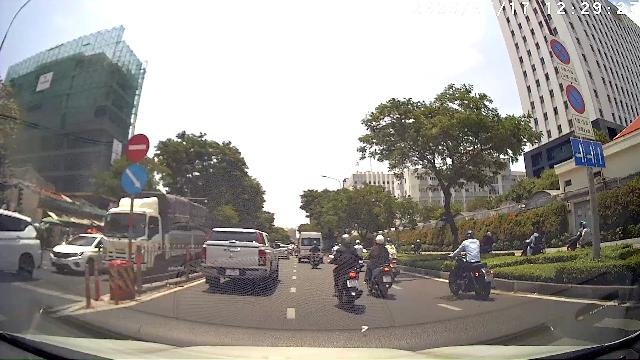102-cam-di-nguoc-chieu: (125, 134, 149, 161)
130-cam-dung-va-do-xe: (550, 38, 571, 64)
131a-cam-do-xe: (565, 83, 585, 114)
302a-huong-phai-di-vong-chuong-ngai-vat-1: (121, 163, 148, 193)
